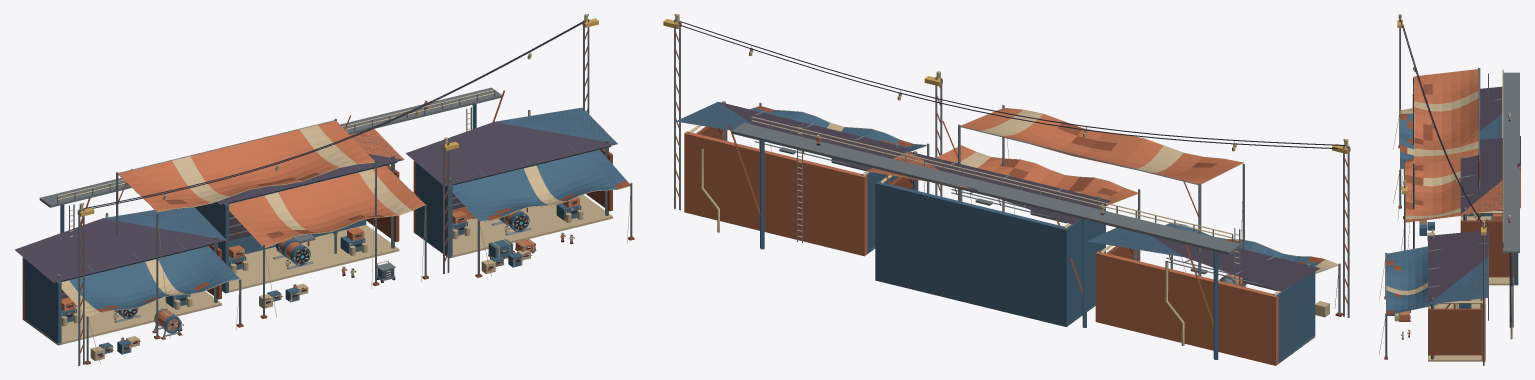
The model's file is pit-district.glb.
The picture shows the model from 3 angles, left to right: view 1: azimuth 30°, elevation 25°; view 2: azimuth 150°, elevation 25°; view 3: azimuth 270°, elevation 25°; orthographic projection. The views are drawn at different scales.
Visible parts, largest first — view 1: pit-district; view 2: pit-district; view 3: pit-district.
Boxes of the visible parts, <box> form: pit-district: <box>15,14,634,365</box>; pit-district: <box>663,14,1350,365</box>; pit-district: <box>1379,14,1520,365</box>.
Size of the model in its own units: 115 by 34.05 by 30.54.
